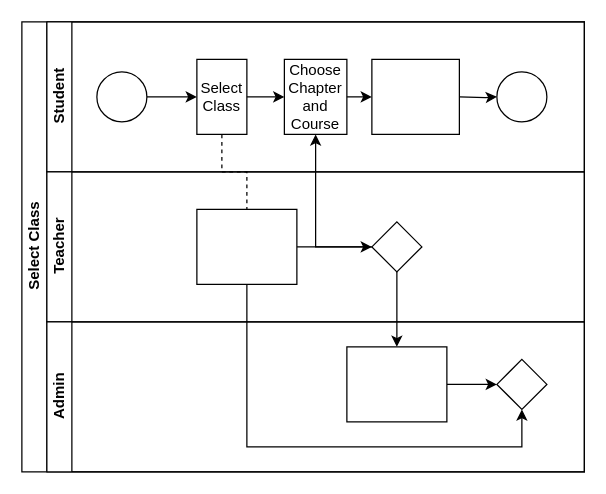
Some shapes in this 606 by 494 pixel diagram are drawn without their labels. The box of each missing label's shape, as (x1, y1, x2, y2) in pixels:
Approves video: (346, 346, 447, 422)
Provides Course: (196, 208, 297, 284)
Watch video lecture: (371, 58, 459, 134)
